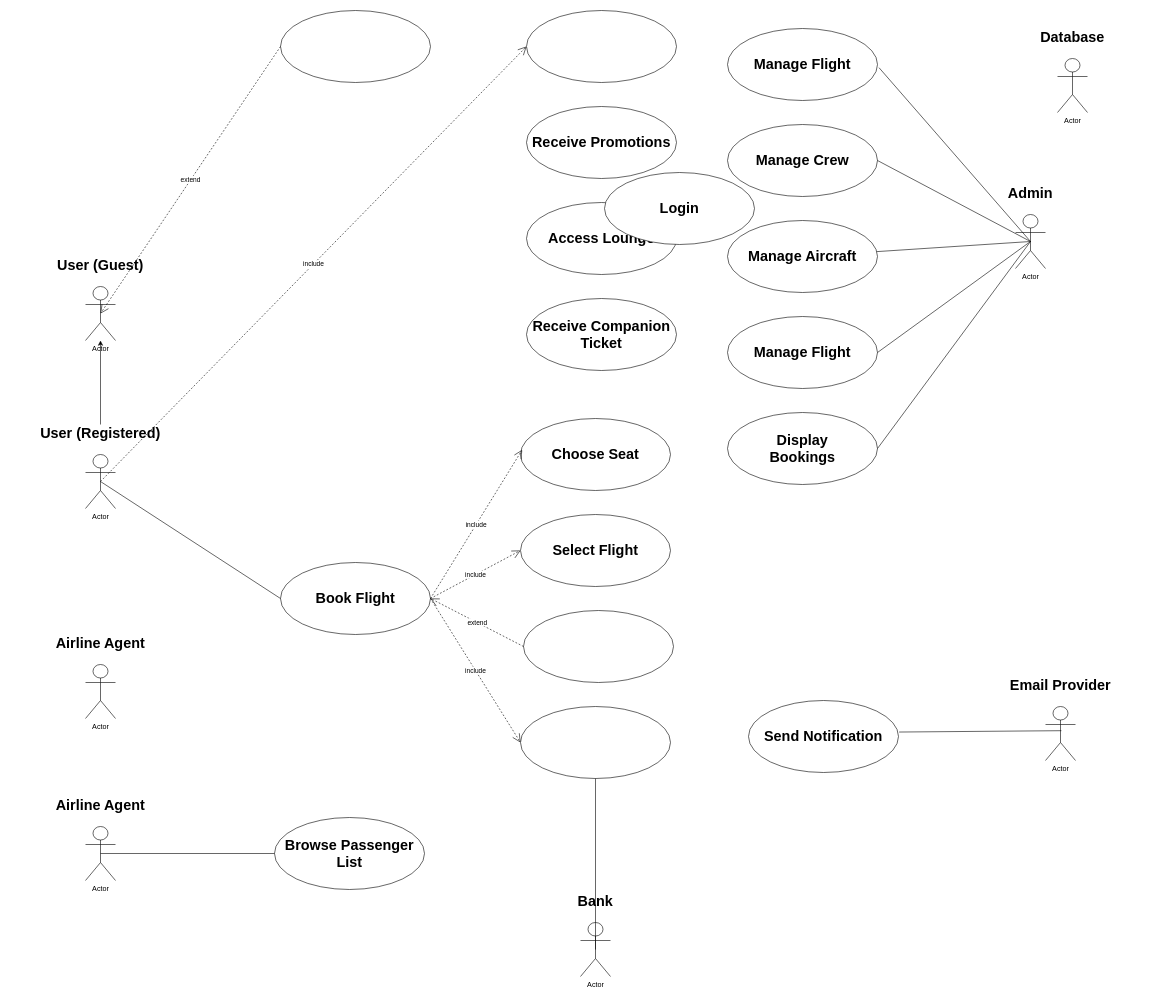
This 1172x1000 diagram has some shape labels left out. Each missing label, with the box of its shape:
Add Insurance: (523, 610, 674, 682)
Apply for Card: (526, 10, 676, 82)
Make Payment: (520, 706, 670, 778)
Register for Membership: (280, 10, 430, 82)
